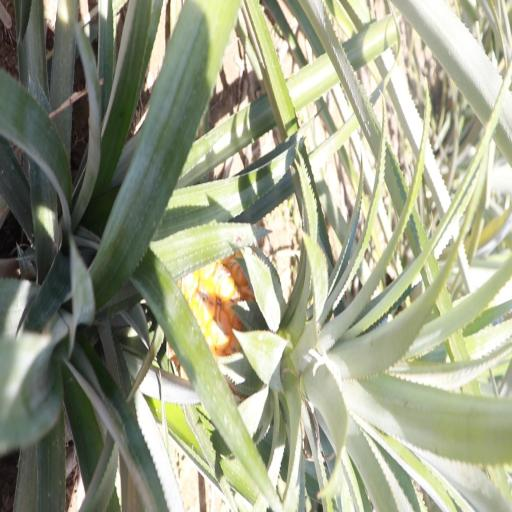Pineapple - v8 v1: (167, 247, 387, 427)
